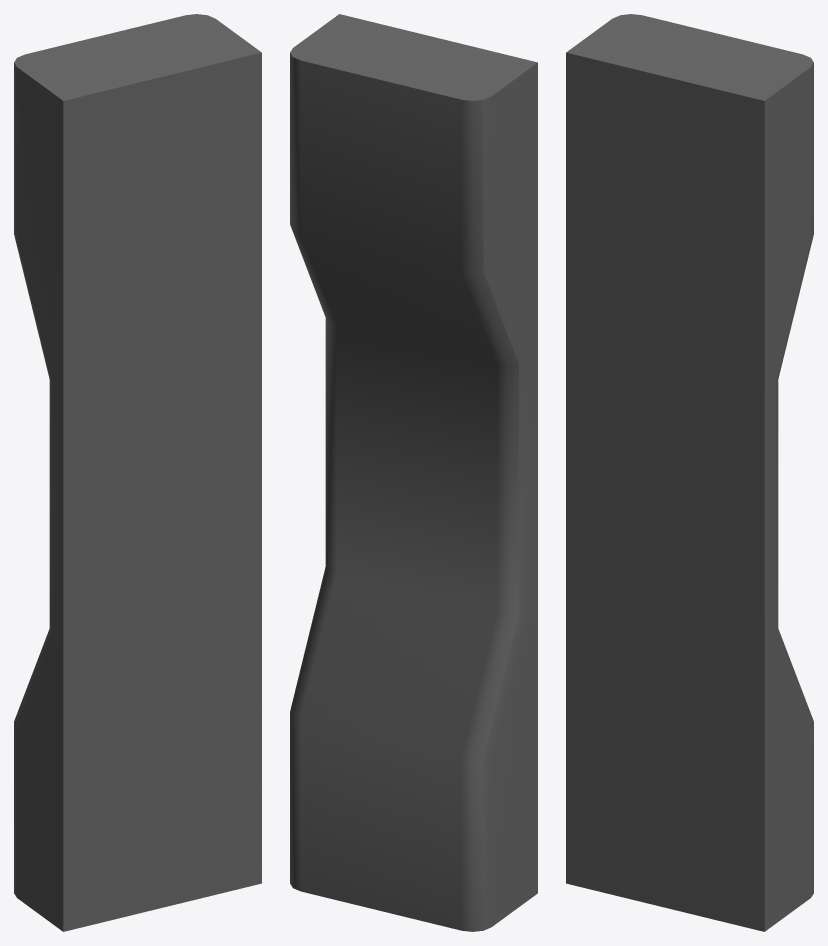
Rendered from Ceiling_Segment.fbx.
The picture shows the model from 3 angles, left to right: view 1: azimuth 30°, elevation 25°; view 2: azimuth 150°, elevation 25°; view 3: azimuth 330°, elevation 25°; orthographic projection.
Visible parts, largest first — view 1: Corridor_Ceiling_Segment; view 2: Corridor_Ceiling_Segment; view 3: Corridor_Ceiling_Segment.
Boxes of the visible parts, x1,y1,x2,y2 form: Corridor_Ceiling_Segment: (14, 14, 261, 931); Corridor_Ceiling_Segment: (290, 14, 537, 931); Corridor_Ceiling_Segment: (566, 14, 813, 931).
Size of the model in its own units: 100 by 400 by 50.
Materials: 1 (1 with a texture image).
